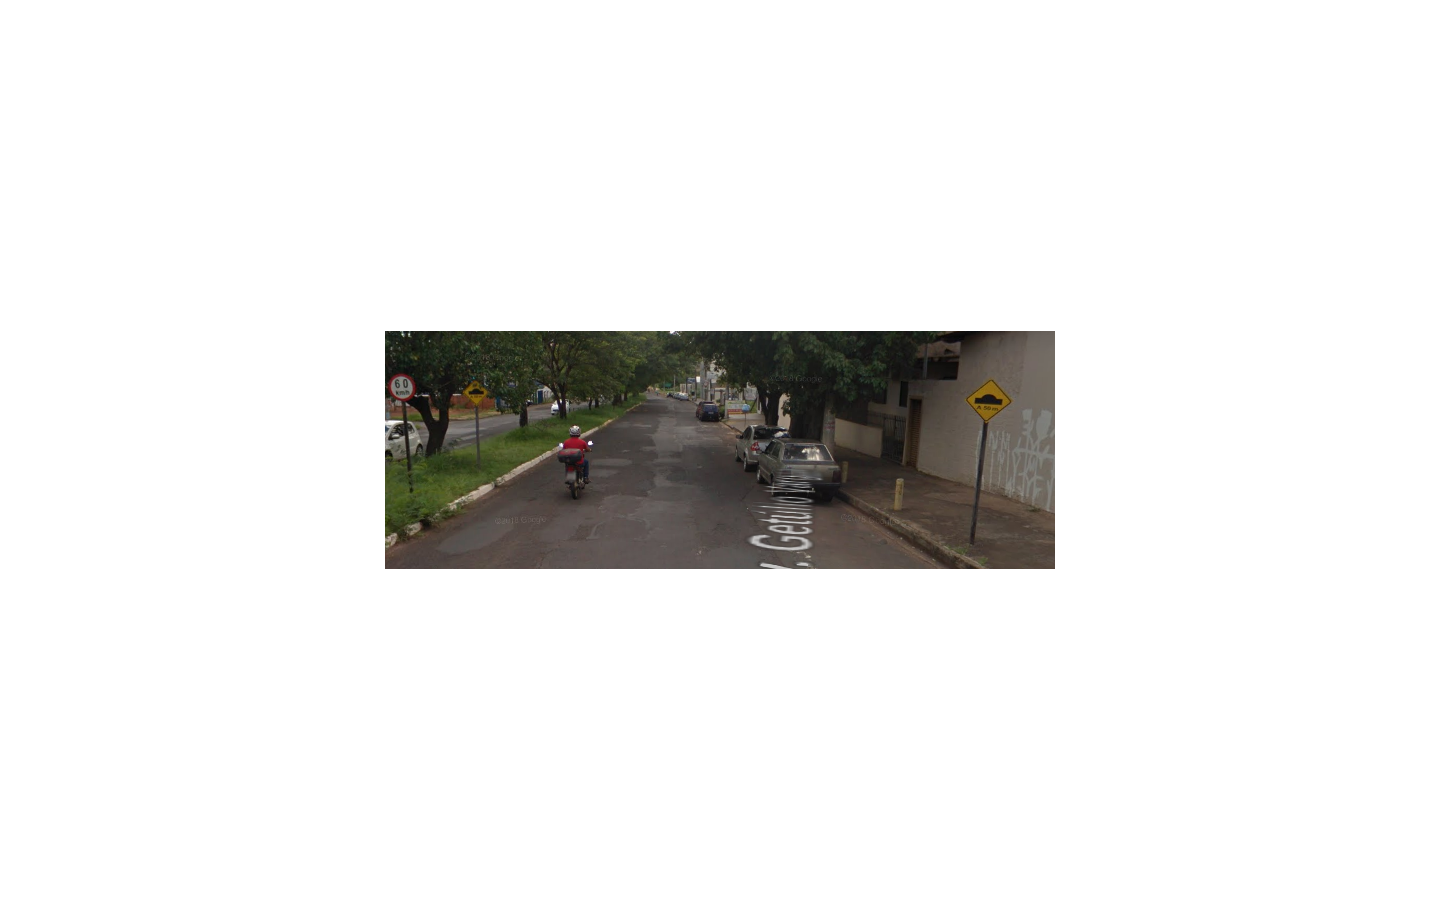t50m: (963, 378, 1013, 424), (462, 379, 489, 405)
